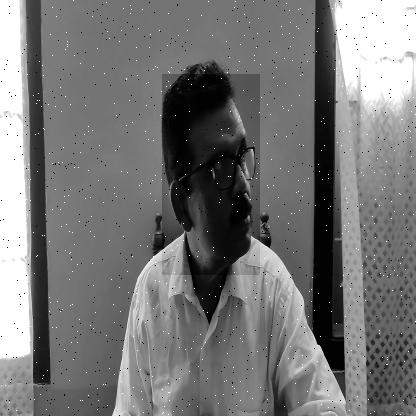Distracted: (162, 74, 260, 275)
